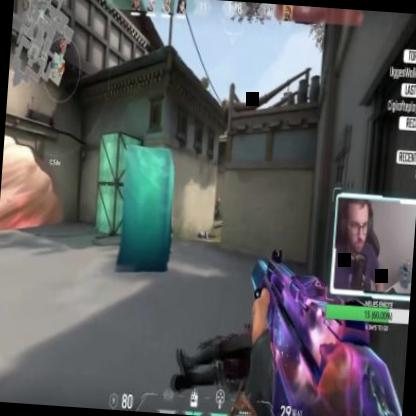enemy: (214, 196, 221, 222)
enemy_head: (216, 196, 219, 200)
